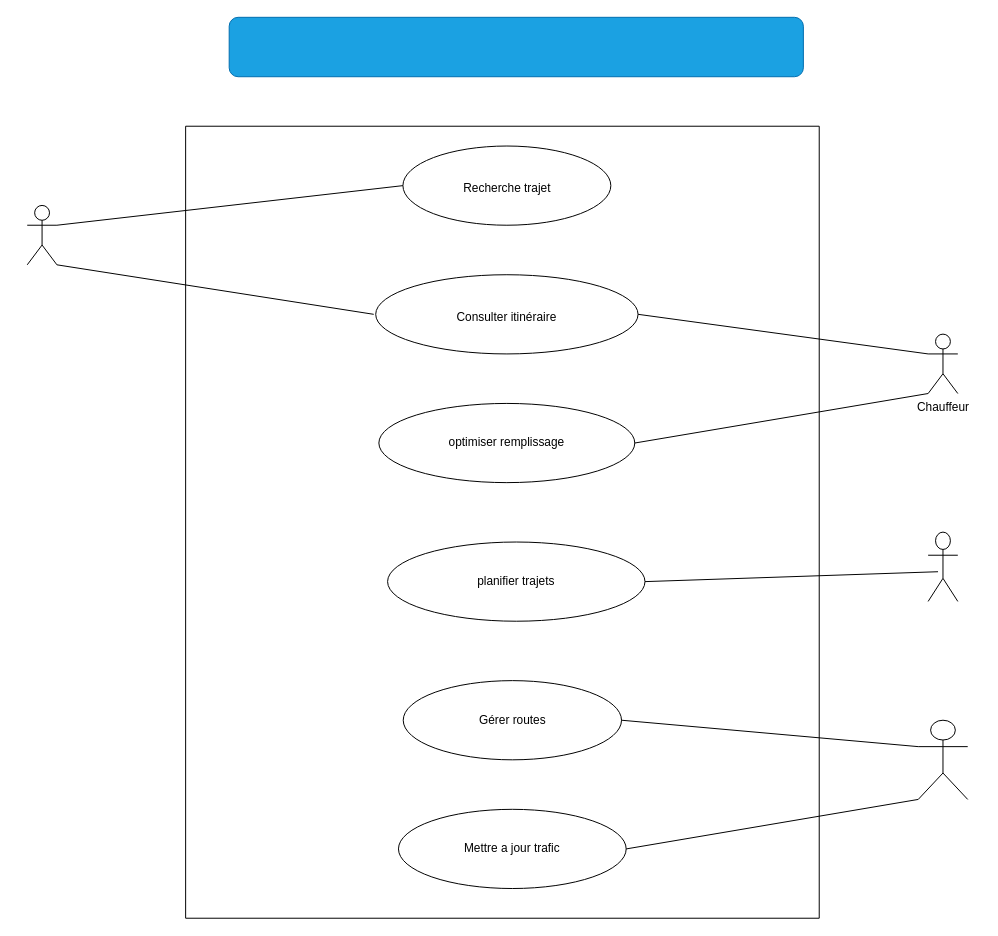
The diagram is 998 pixels wide and 936 high, and some of its shapes have lost their labels. Here are the shapes that lost their labels. From the top down, the box of each, then its label:
(228, 16, 803, 77): Diagramme de Cas d' utilisation
(26, 204, 57, 265): Passager
(927, 531, 958, 601): Coopèrative
(917, 719, 968, 799): Administrateur
